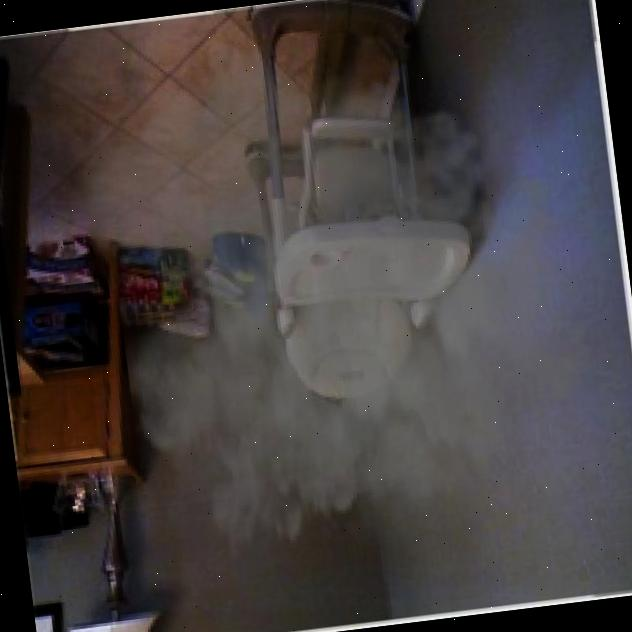smoke: (52, 0, 632, 609)
